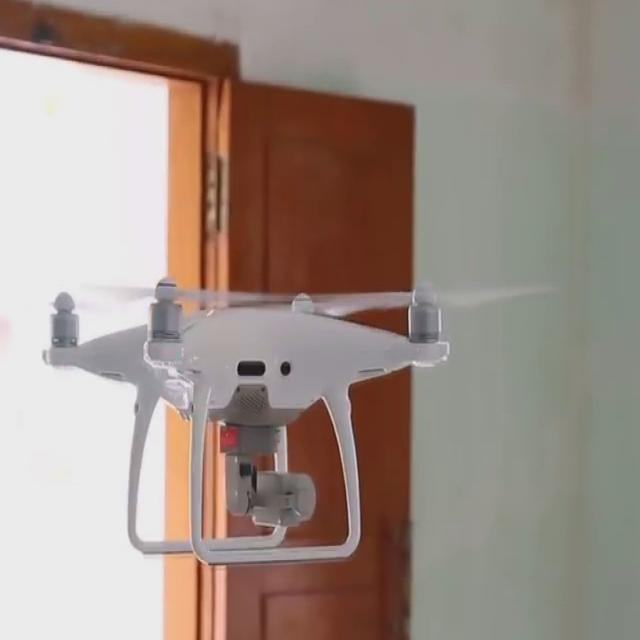drone: (3, 259, 560, 594)
